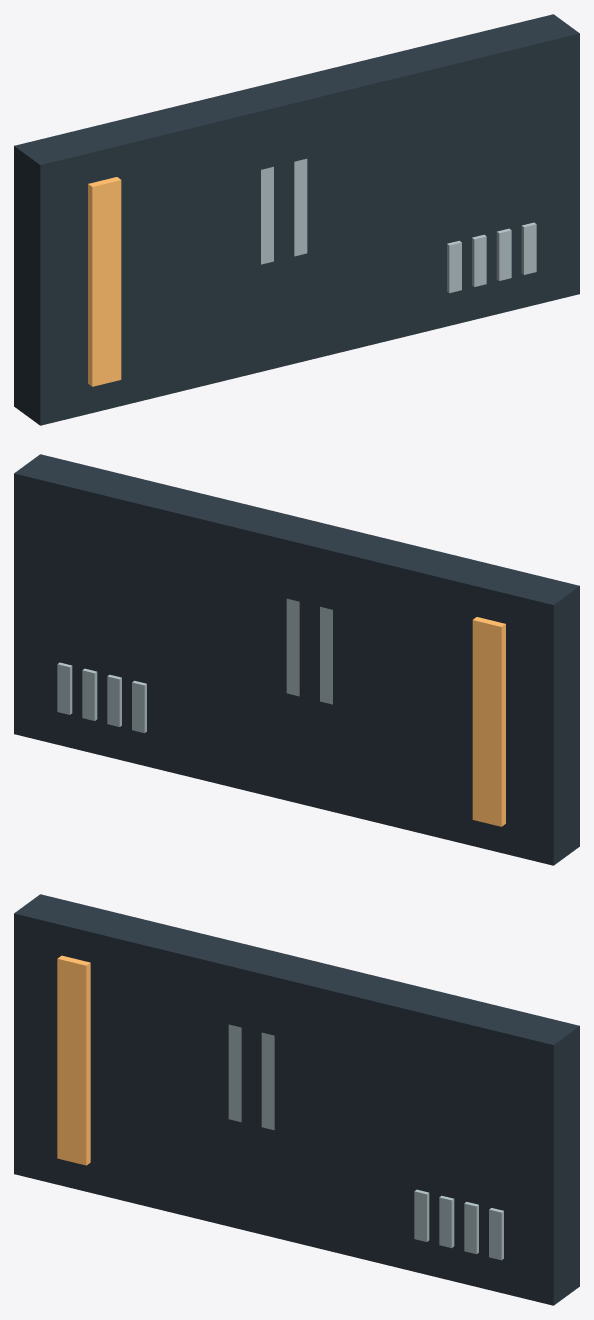
File: sector_2.glb
The picture shows the model from 3 angles, top to bottom: view 1: azimuth 30°, elevation 25°; view 2: azimuth 150°, elevation 25°; view 3: azimuth 330°, elevation 25°; orthographic projection.
Visible parts, largest first — view 1: SectorNumeral.001; view 2: SectorNumeral.001; view 3: SectorNumeral.001.
Part boxes in pixels (x1=…): SectorNumeral.001: x1=14, y1=14, x2=579, y2=425; SectorNumeral.001: x1=14, y1=454, x2=579, y2=865; SectorNumeral.001: x1=14, y1=894, x2=579, y2=1305.
Size of the model in its own units: 1.3 by 0.6 by 0.146.
